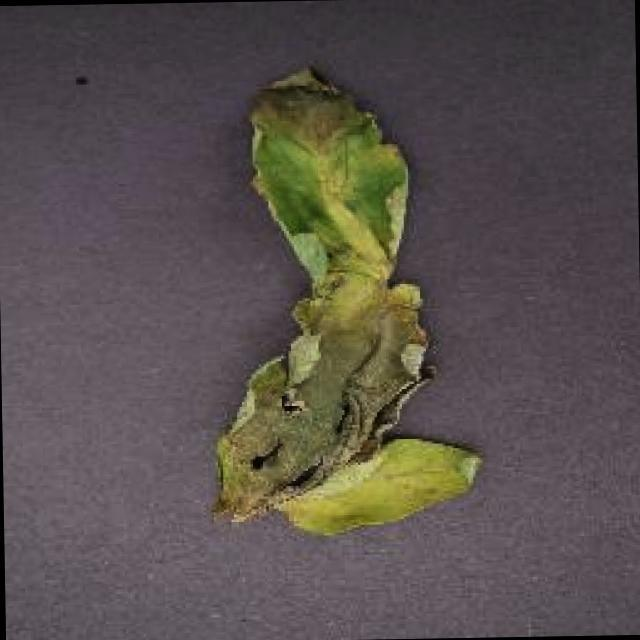Tomato late blight leaf: (207, 58, 484, 534)
